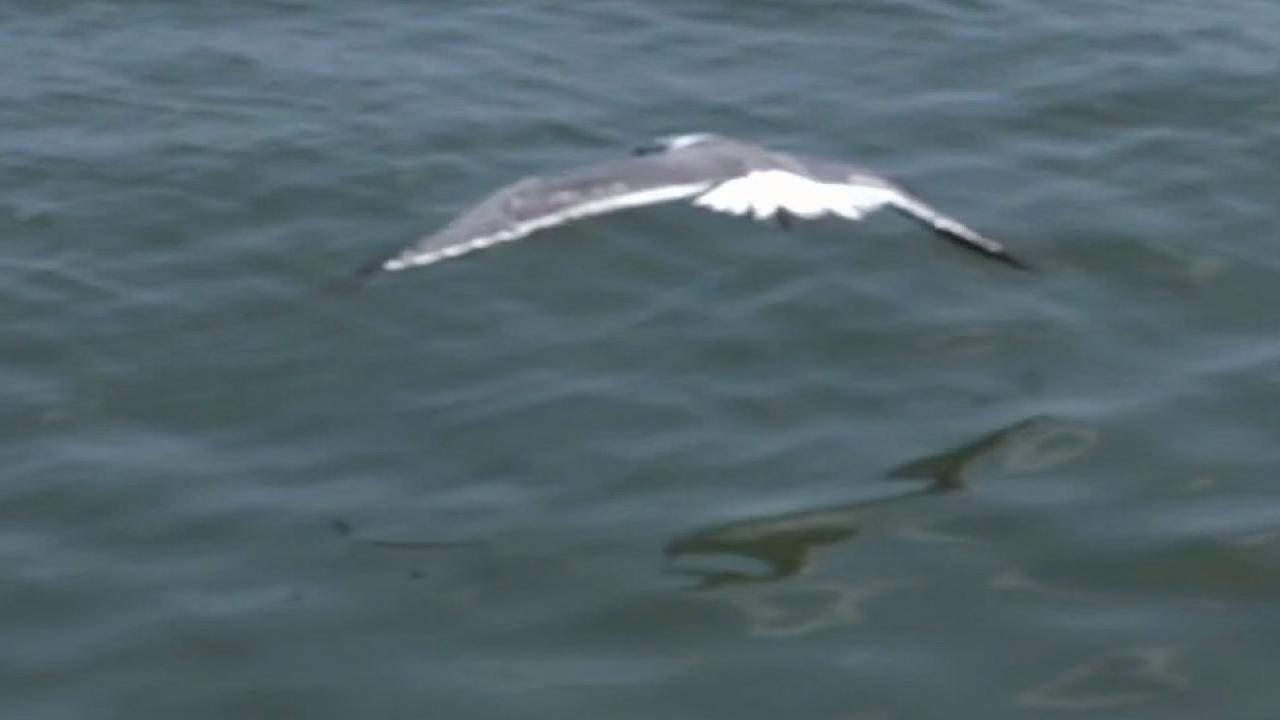Bird: (358, 122, 1052, 288)
